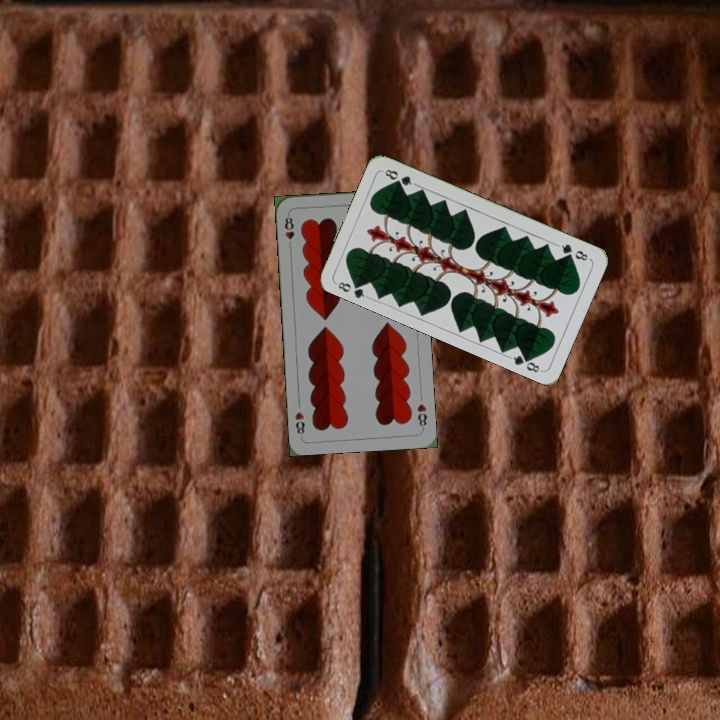G8: (332, 276, 371, 301), (554, 240, 592, 263)
H8: (281, 210, 297, 251), (413, 400, 429, 432)
